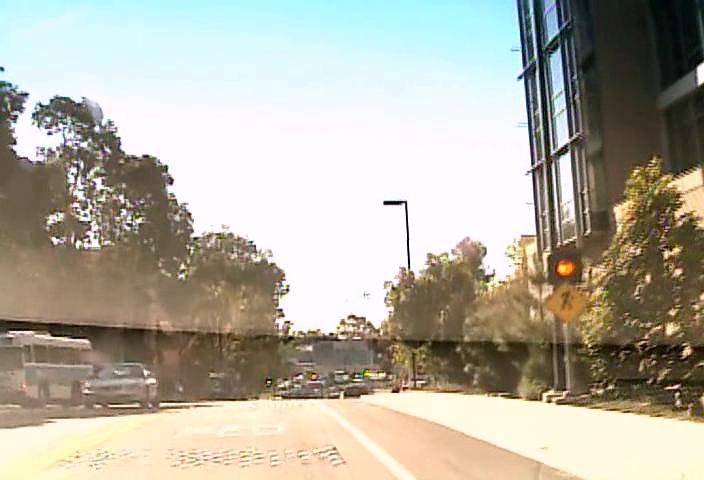pedestrianCrossing: (543, 279, 589, 324)
